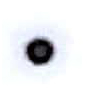cancer: (10, 19, 80, 82)
